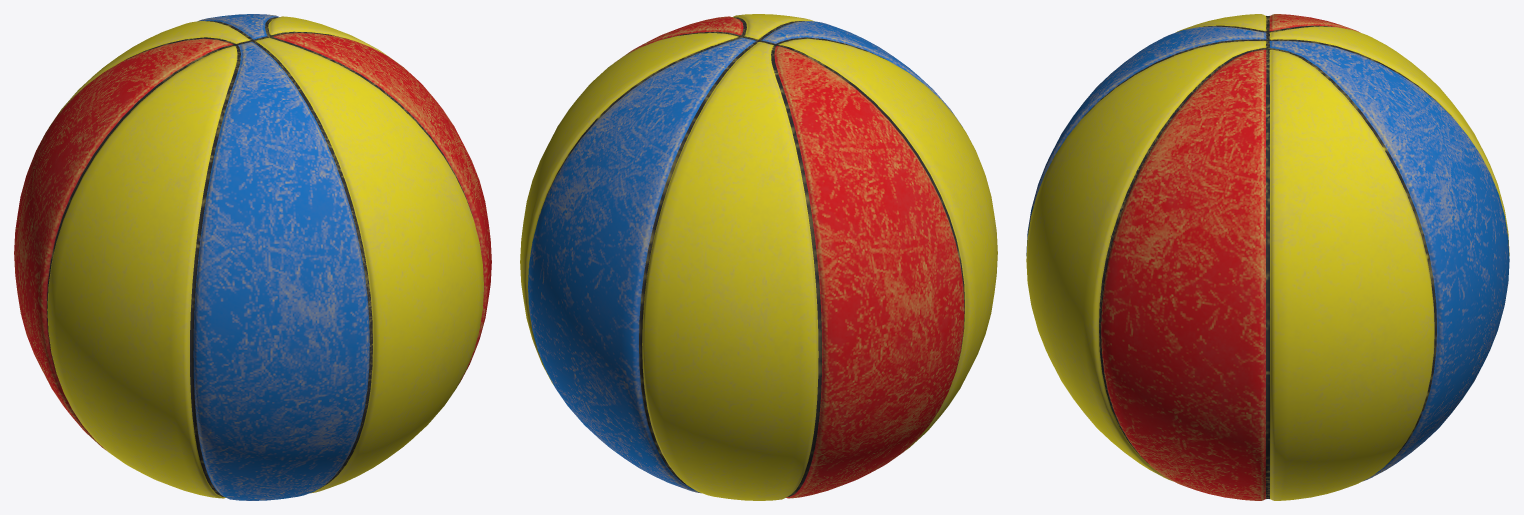
Rendered from ball.fbx.
The picture shows the model from 3 angles, left to right: view 1: azimuth 30°, elevation 25°; view 2: azimuth 150°, elevation 25°; view 3: azimuth 270°, elevation 25°; orthographic projection.
Parts seen in each view (by area): view 1: ball; view 2: ball; view 3: ball.
Part boxes in pixels (<box>): ball: <box>14,14,491,500</box>; ball: <box>520,14,997,500</box>; ball: <box>1026,14,1509,500</box>.
Bounding box in the file's own units: 196 × 196 × 196.
1 material, 1 textured.
